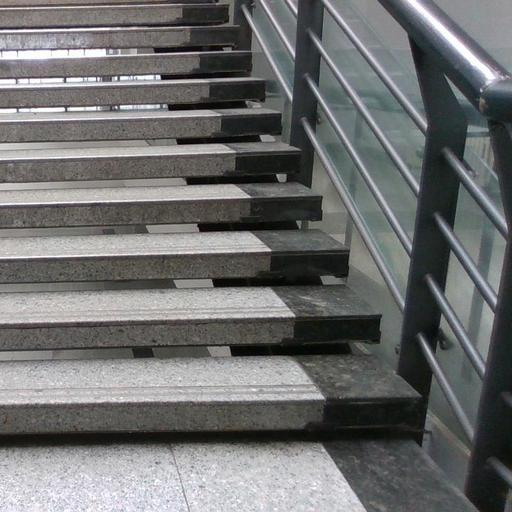stairs: (0, 0, 423, 511)
